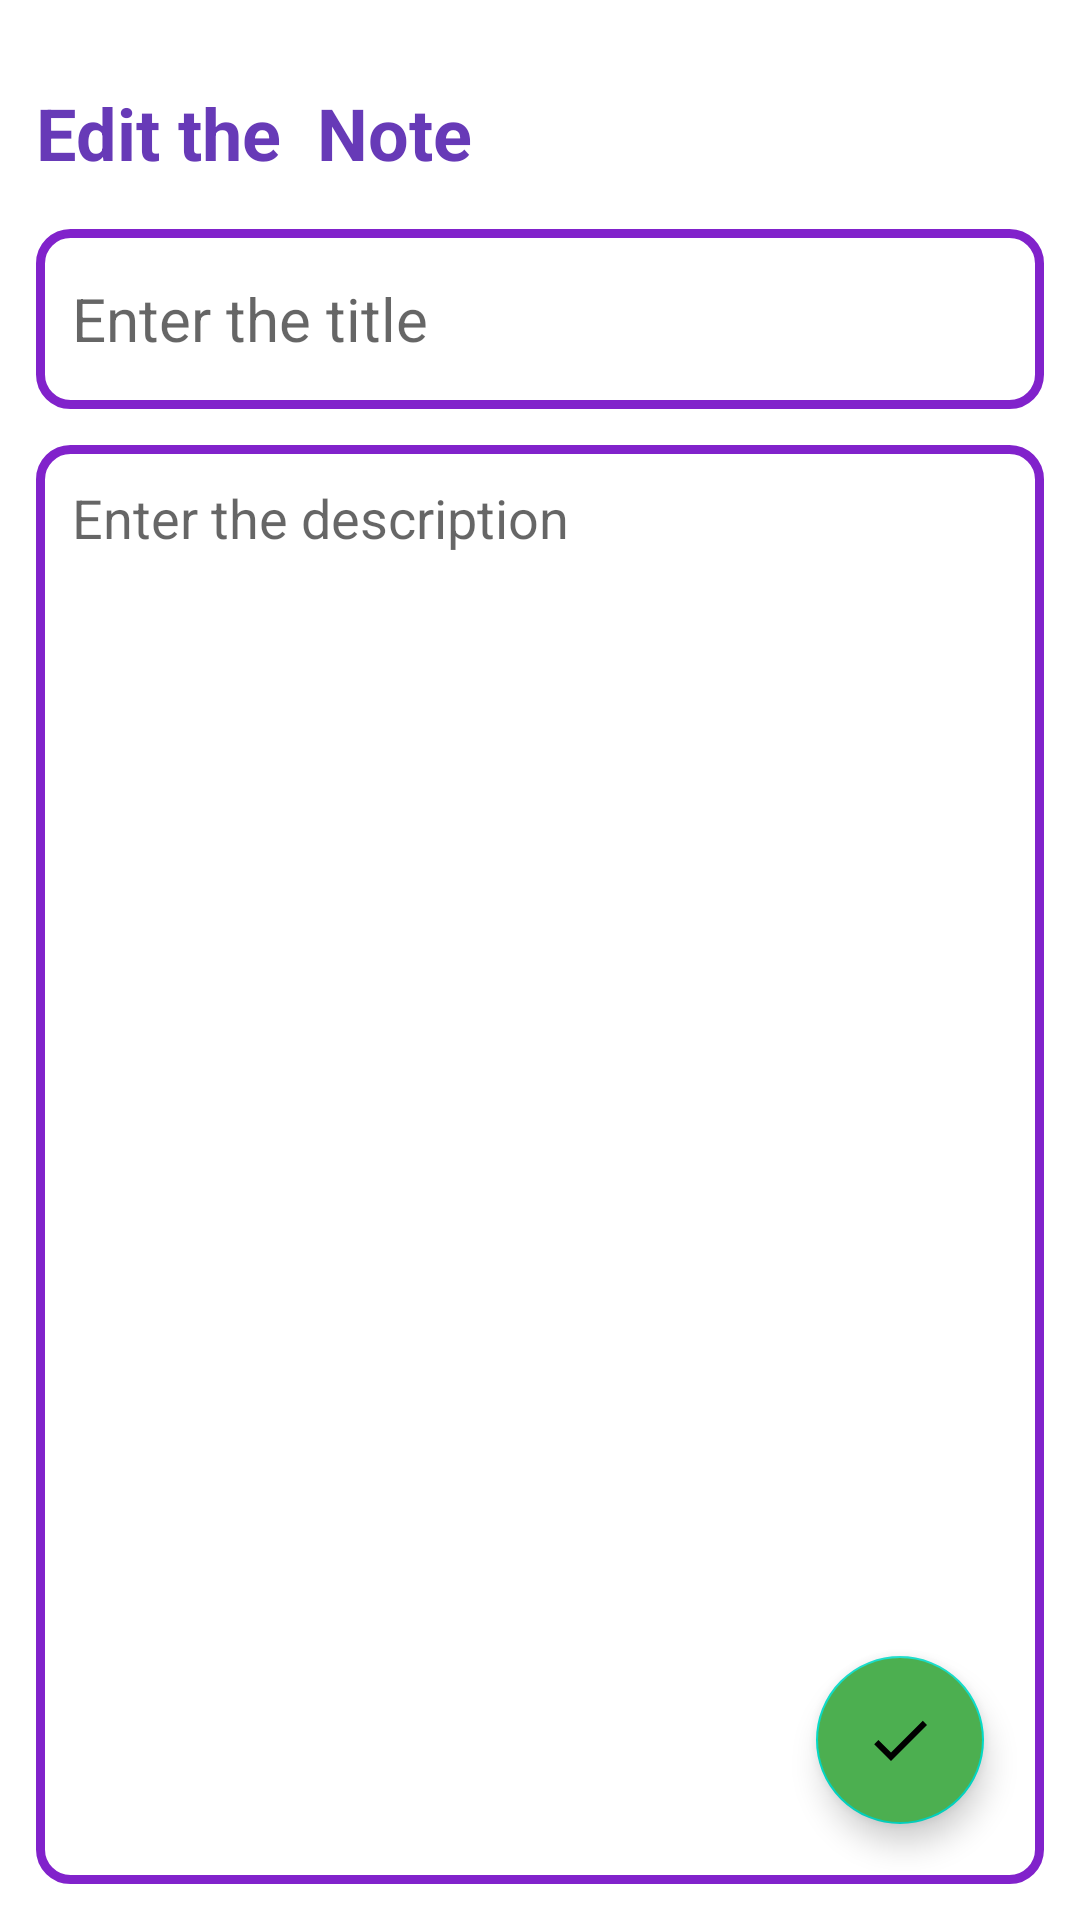

Locate icon controls on the screen. Image size 1080 x 1920, boxes as (x1, y1, x2, y2).
done: (816, 1656, 984, 1824)
